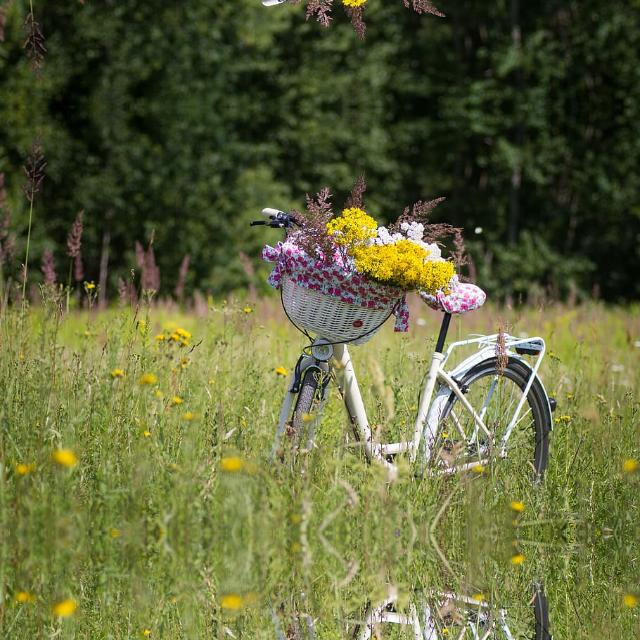obstacle: (244, 190, 576, 490), (244, 575, 576, 640), (244, 0, 576, 22)
